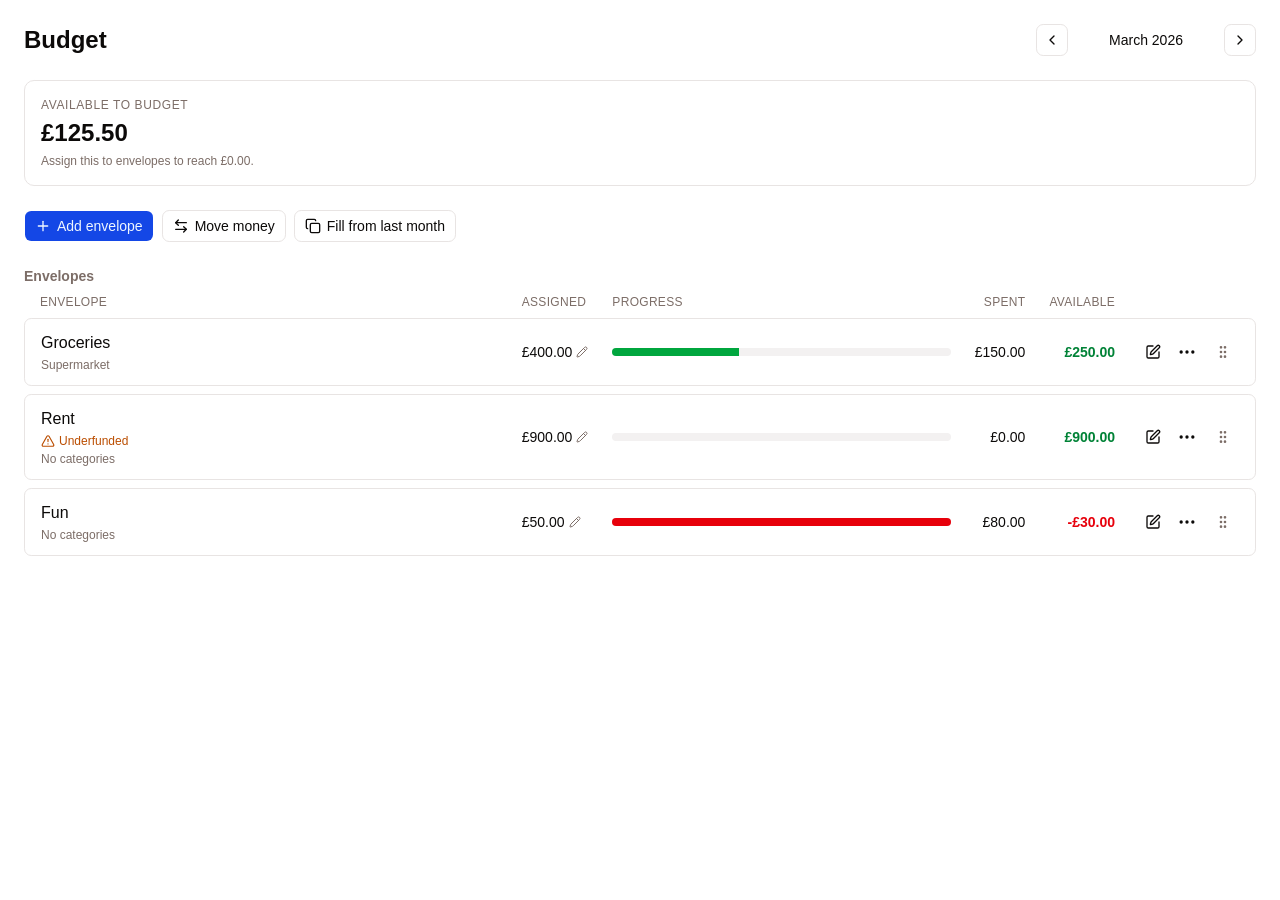
Scenario: BudgetPage actions › Add envelope opens the create form
Click the button "Add envelope" at (89, 226), box [24,210,154,242]
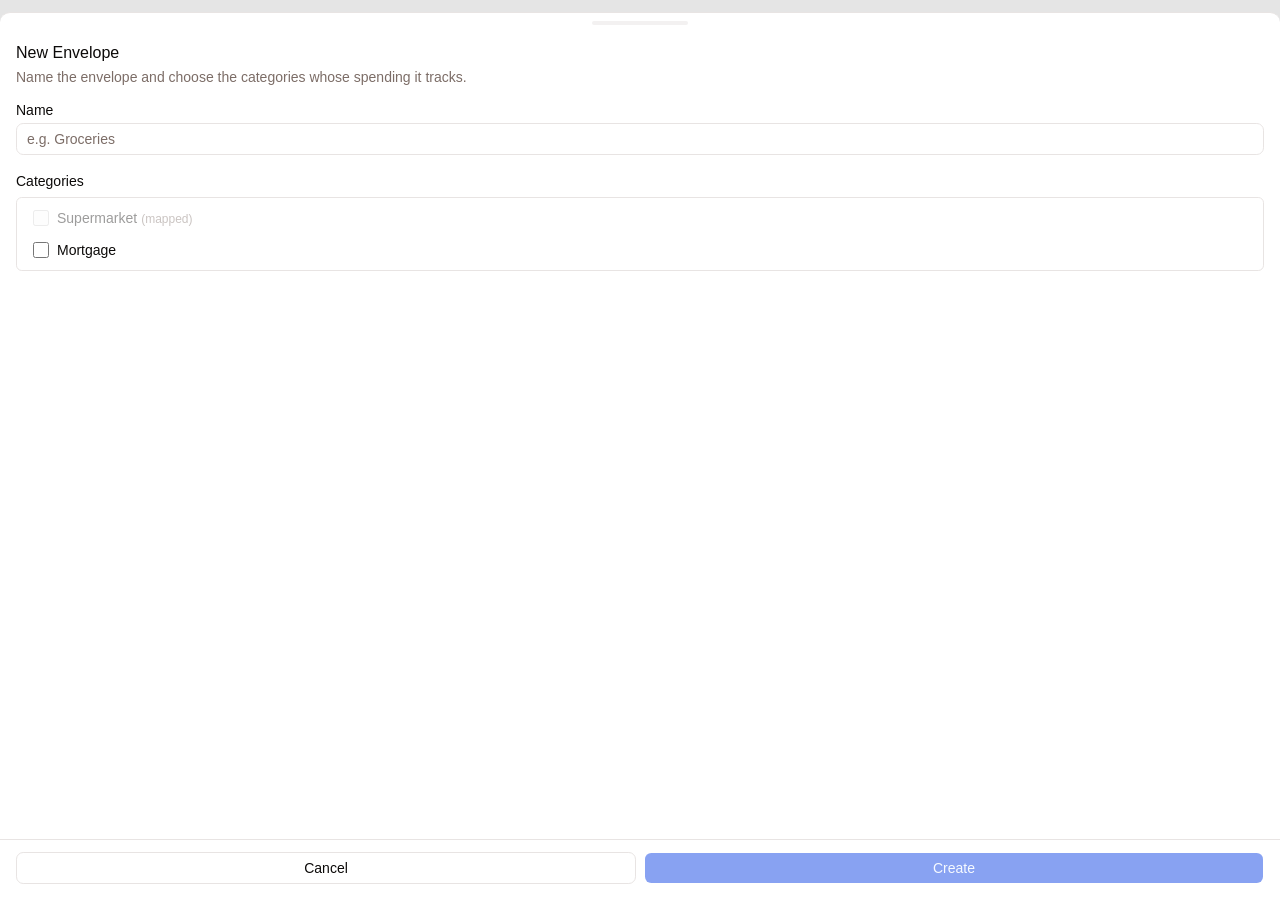
Check: the heading "New Envelope" is shown, box [16,44,119,61]
